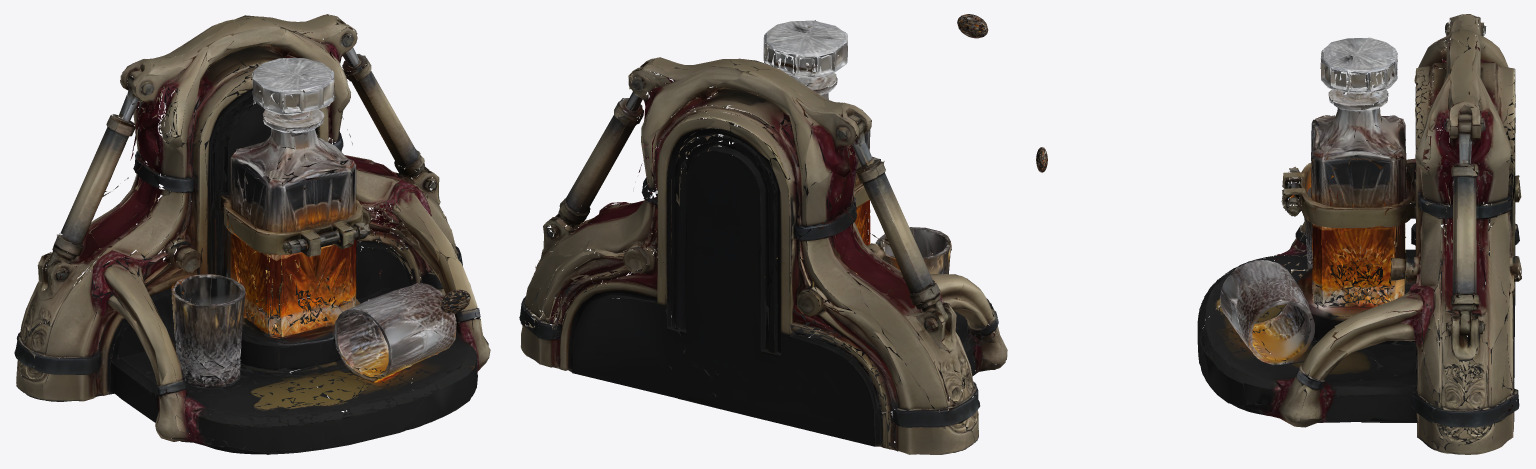
Rendered from chen_whiskey_decanter_caddy.glb.
3 views of the same model, side by side, from view 1: azimuth 30°, elevation 25°; view 2: azimuth 150°, elevation 25°; view 3: azimuth 270°, elevation 25° (orthographic). The views are drawn at different scales.
Visible parts, largest first — view 1: node_0, HB_PULSE_00; view 2: node_0, HB_PULSE_00; view 3: node_0.
Part boxes in pixels (x1,y1,x2,y2): node_0: (14,14,490,454); HB_PULSE_00: (440,289,470,313); node_0: (519,20,1007,454); HB_PULSE_00: (957,14,988,38); node_0: (1197,14,1521,454).
Size of the model in its own units: 0.9178 by 0.6447 by 0.9125.
Materials: 1 (1 with a texture image).
